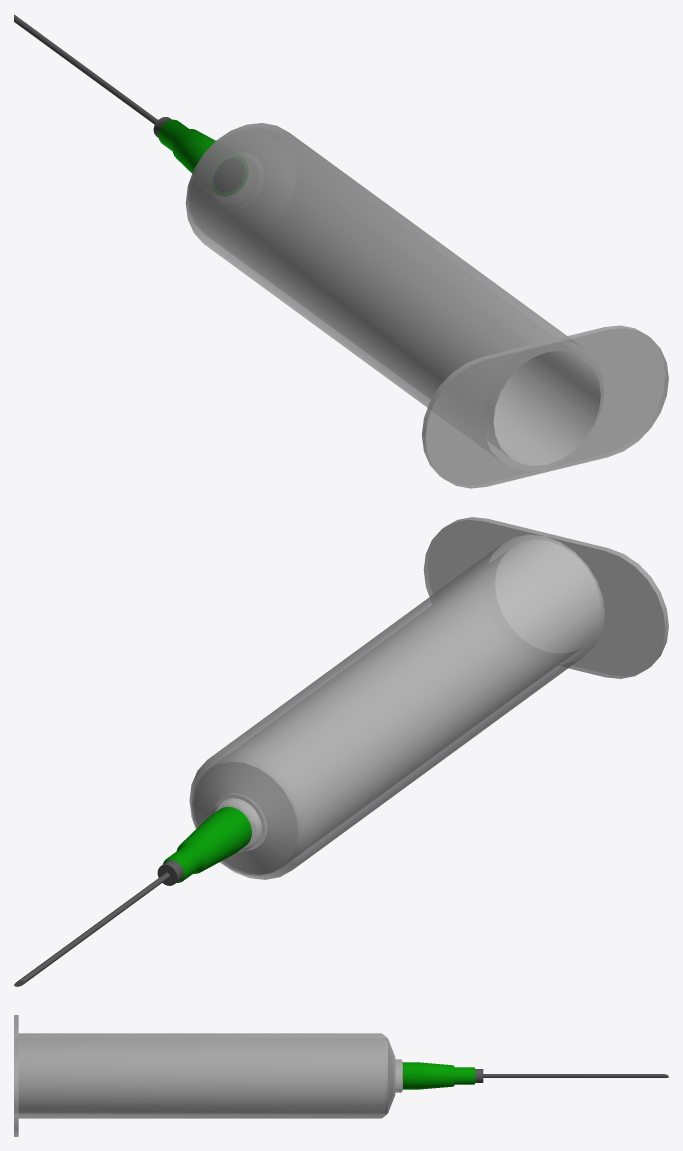
Rendered from syringe.glb.
3 renders of one model, top to bottom at view 1: azimuth 30°, elevation 25°; view 2: azimuth 150°, elevation 25°; view 3: azimuth 270°, elevation 25°, orthographic. The views are drawn at different scales.
Parts seen in each view (by area): view 1: C-Spuit; view 2: C-Spuit; view 3: C-Spuit.
Part boxes in pixels (x1,y1,x2,y2): C-Spuit: (14, 14, 668, 488); C-Spuit: (14, 517, 668, 986); C-Spuit: (14, 1015, 668, 1136).
Bounding box in the file's own units: 0.0536 × 0.0268 × 0.2043.
5 materials, 1 textured.
